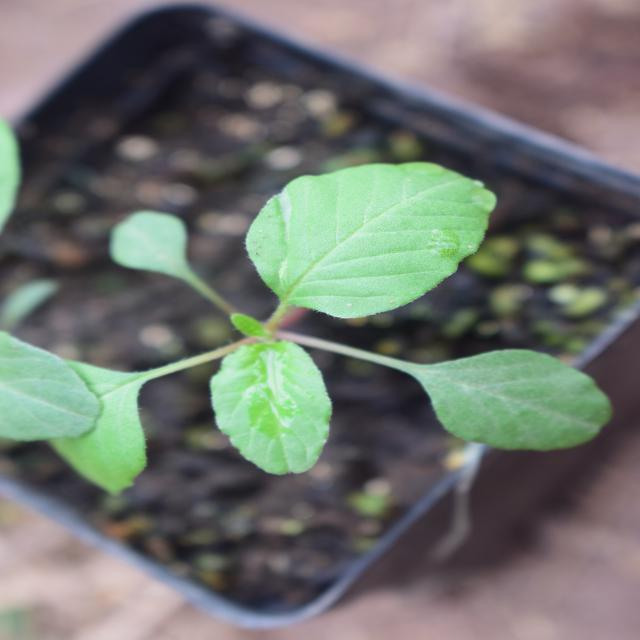pigweed: (159, 46, 478, 598)
